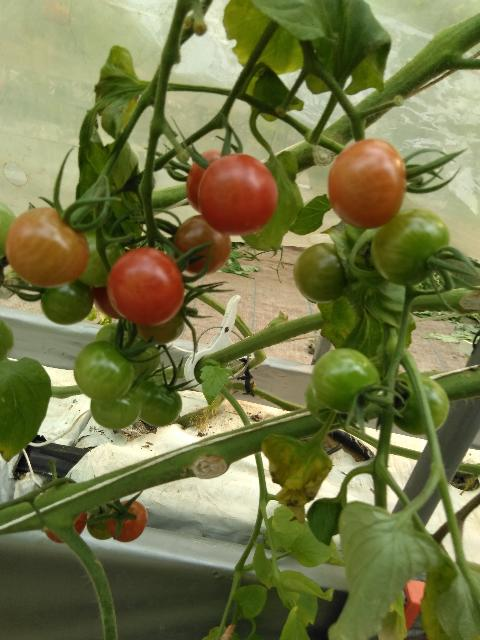l_fully_ripened: (198, 153, 278, 237), (106, 247, 185, 327), (186, 150, 236, 214), (106, 499, 148, 543)
l_green: (371, 208, 450, 286), (311, 347, 381, 415), (94, 323, 160, 389), (386, 371, 450, 435), (73, 341, 134, 400), (293, 243, 352, 303), (77, 231, 125, 288), (40, 279, 94, 325), (135, 377, 182, 427), (304, 379, 354, 426), (91, 389, 142, 429), (86, 502, 114, 540), (0, 202, 16, 260), (0, 316, 15, 363)
l_half_ripened: (327, 137, 407, 229), (5, 206, 89, 288), (172, 214, 230, 275), (135, 304, 185, 345), (88, 286, 126, 320)
